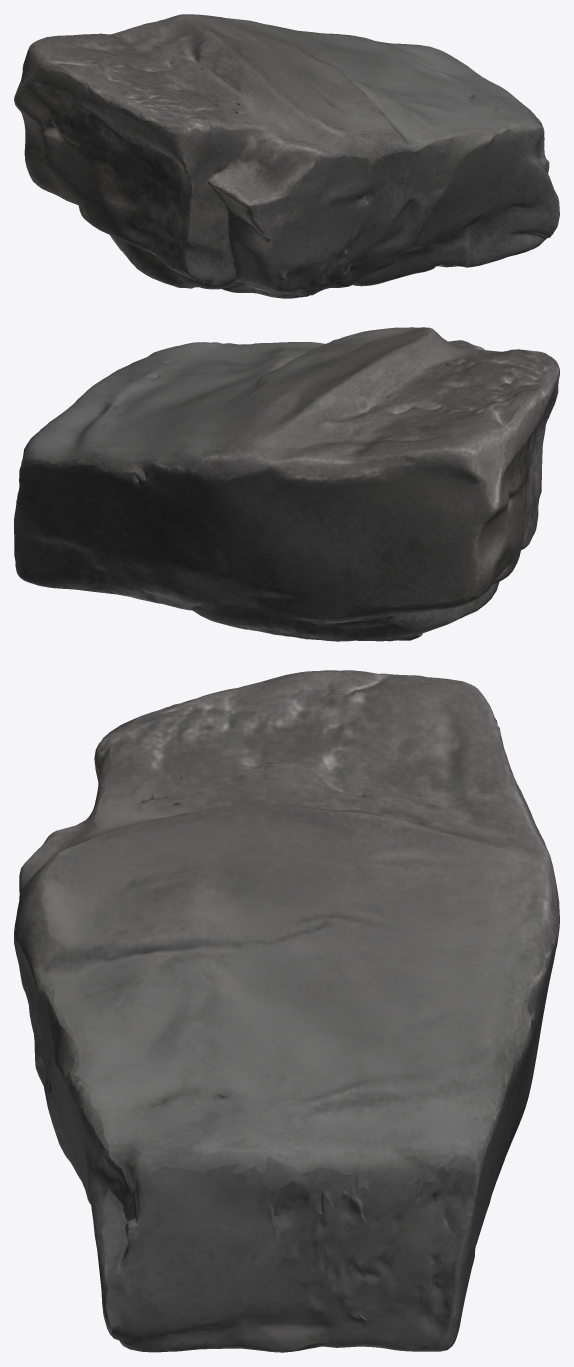
3 views of the same model, one above another, from view 1: azimuth 30°, elevation 25°; view 2: azimuth 150°, elevation 25°; view 3: azimuth 270°, elevation 25° (orthographic). The views are drawn at different scales.
Parts seen in each view (by area): view 1: world; view 2: world; view 3: world.
Part boxes in pixels (box(x1,y1,x2,y2)): world: box(14, 14, 559, 298); world: box(14, 327, 559, 641); world: box(14, 670, 559, 1352).
Size of the model in its own units: 2.5 by 1.27 by 1.7.
1 material, 1 textured.
